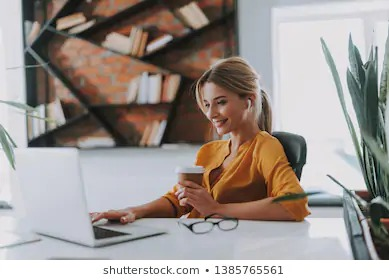C_blouse: (145, 140, 310, 224)
